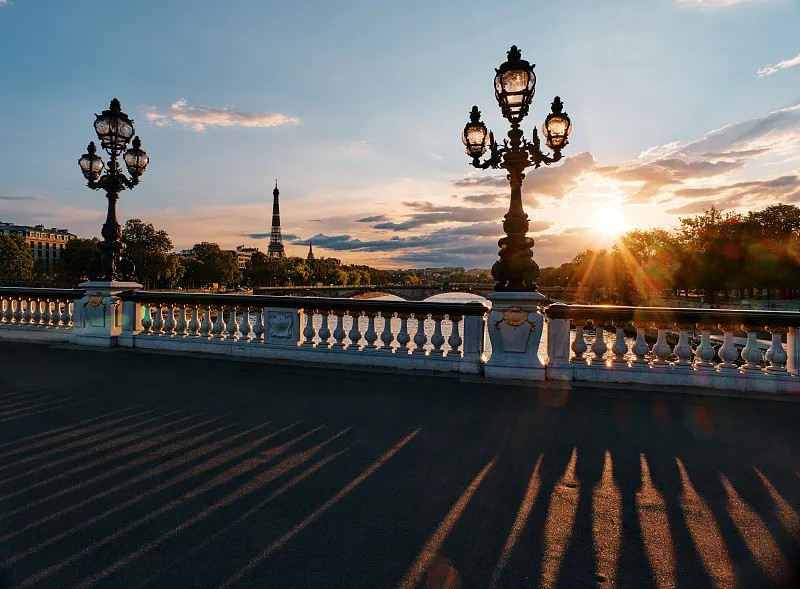Eiffel: (265, 178, 287, 260)
